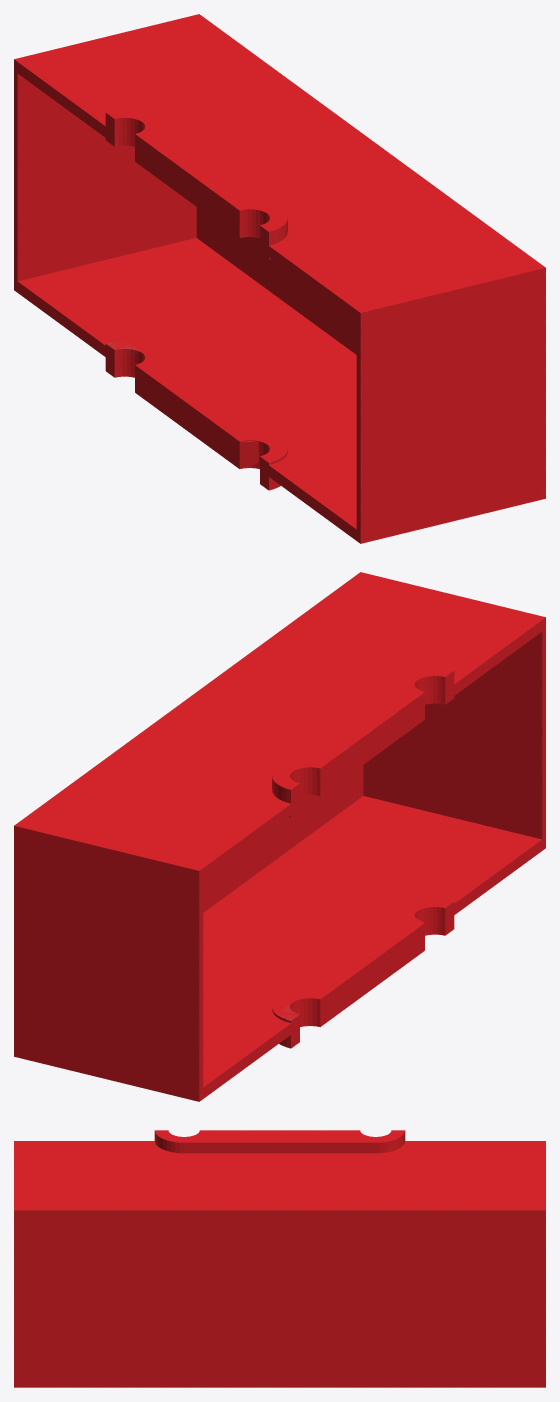
Rendered from casing.glb.
The picture shows the model from 3 angles, top to bottom: view 1: azimuth 30°, elevation 25°; view 2: azimuth 150°, elevation 25°; view 3: azimuth 270°, elevation 25°; orthographic projection. The views are drawn at different scales.
Visible parts, largest first — view 1: node_id3; view 2: node_id3; view 3: node_id3.
Part boxes in pixels (x1,y1,x2,y2): node_id3: (14, 14, 545, 543); node_id3: (14, 572, 545, 1101); node_id3: (14, 1130, 545, 1387).
Bounding box in the file's own units: 0.384 × 0.512 × 1.24.
1 material, 1 textured.
